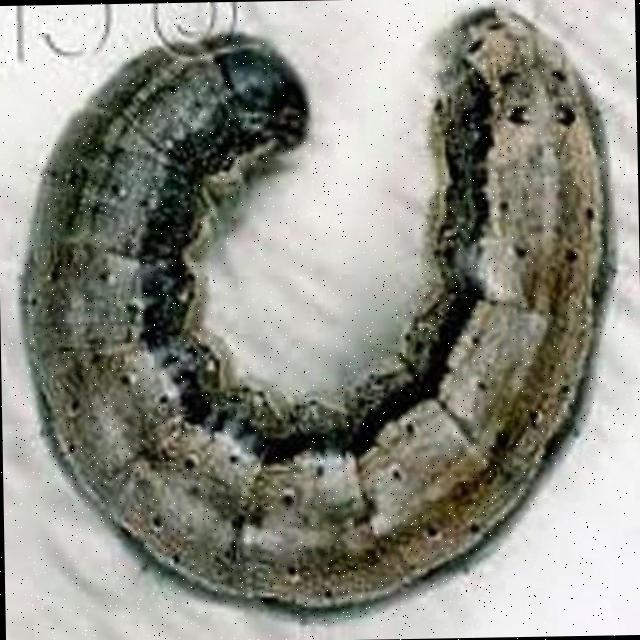worm: (13, 1, 627, 619)
